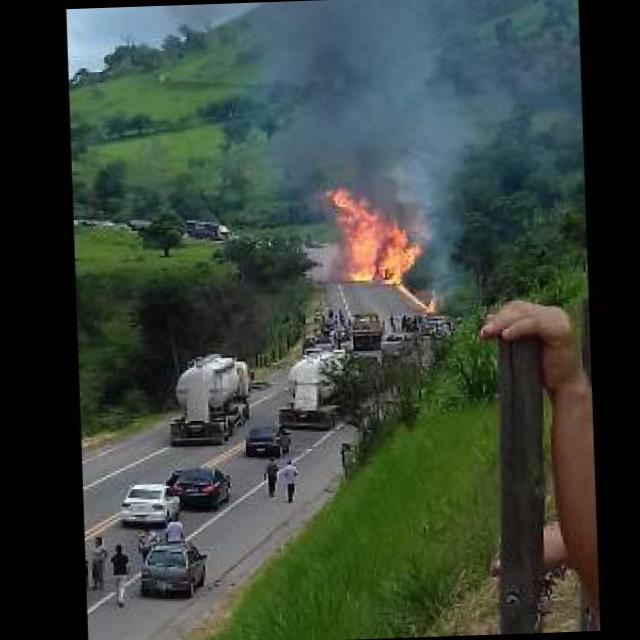fire: (326, 186, 437, 316)
smoke: (248, 0, 509, 198), (406, 172, 474, 294)
